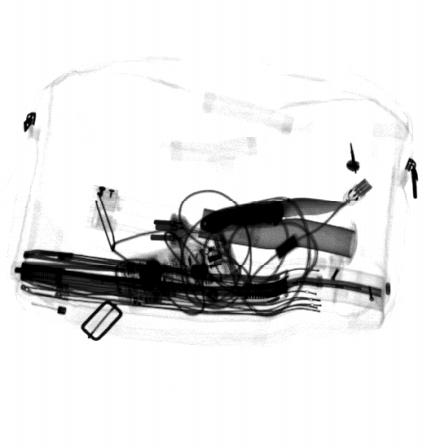Knife: (199, 197, 350, 235)
